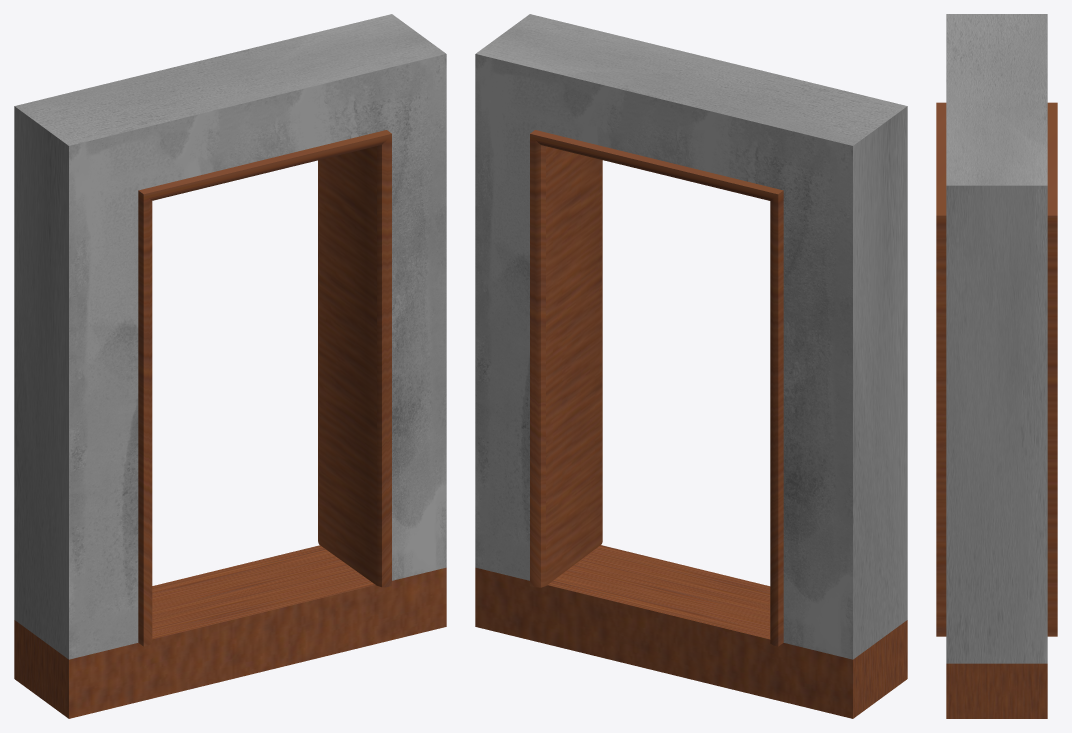
Rendered from Wall_Open_2.fbx.
3 views of the same model, side by side, from view 1: azimuth 30°, elevation 25°; view 2: azimuth 150°, elevation 25°; view 3: azimuth 270°, elevation 25° (orthographic). The views are drawn at different scales.
Parts seen in each view (by area): view 1: Wand Durchgang.001, Durchgang.001, Cube.001; view 2: Wand Durchgang.001, Durchgang.001, Cube.001; view 3: Wand Durchgang.001, Durchgang.001, Cube.001.
Boxes of the visible parts, bbox=[...] form: Wand Durchgang.001: bbox=[14, 14, 446, 659]; Durchgang.001: bbox=[138, 130, 391, 646]; Cube.001: bbox=[14, 545, 446, 718]; Wand Durchgang.001: bbox=[475, 14, 907, 659]; Durchgang.001: bbox=[530, 130, 783, 646]; Cube.001: bbox=[475, 545, 907, 718]; Wand Durchgang.001: bbox=[946, 14, 1047, 663]; Durchgang.001: bbox=[936, 102, 1057, 636]; Cube.001: bbox=[946, 663, 1047, 718].
Size of the model in its own units: 200 by 290 by 59.82.
